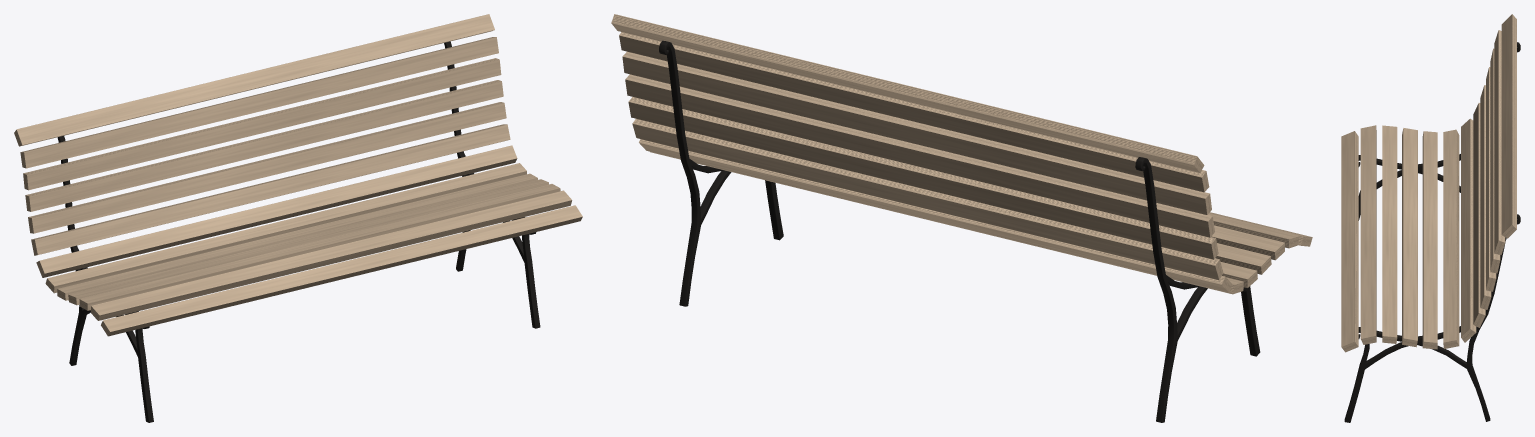
File: bench_1.gltf
The picture shows the model from 3 angles, left to right: view 1: azimuth 30°, elevation 25°; view 2: azimuth 150°, elevation 25°; view 3: azimuth 270°, elevation 25°; orthographic projection. The views are drawn at different scales.
Parts seen in each view (by area): view 1: Cube, Plane.002; view 2: Cube, Plane.002; view 3: Cube, Plane.002.
Part boxes in pixels (<box>): Cube: <box>14,14,582,336</box>; Plane.002: <box>57,41,540,422</box>; Cube: <box>611,14,1312,294</box>; Plane.002: <box>659,40,1260,422</box>; Cube: <box>1341,14,1516,352</box>; Plane.002: <box>1344,42,1520,422</box>.
Bounding box in the file's own units: 1.86 × 0.891 × 0.6684.
1 material, 1 textured.
